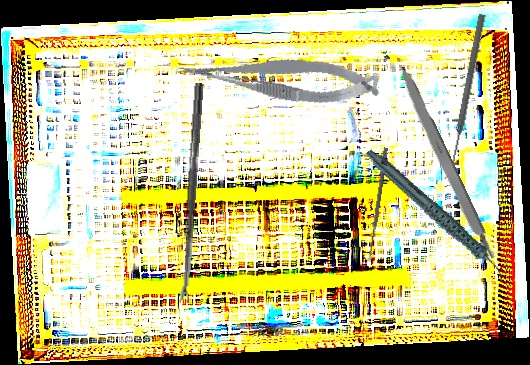Handpiece: (364, 126, 508, 305)
Micro Scissor: (173, 35, 384, 118)
Pusher: (447, 13, 487, 169)
Scalpel Handle: (394, 64, 497, 263)
Surgical Spoon: (178, 82, 204, 304), (367, 147, 388, 262)
